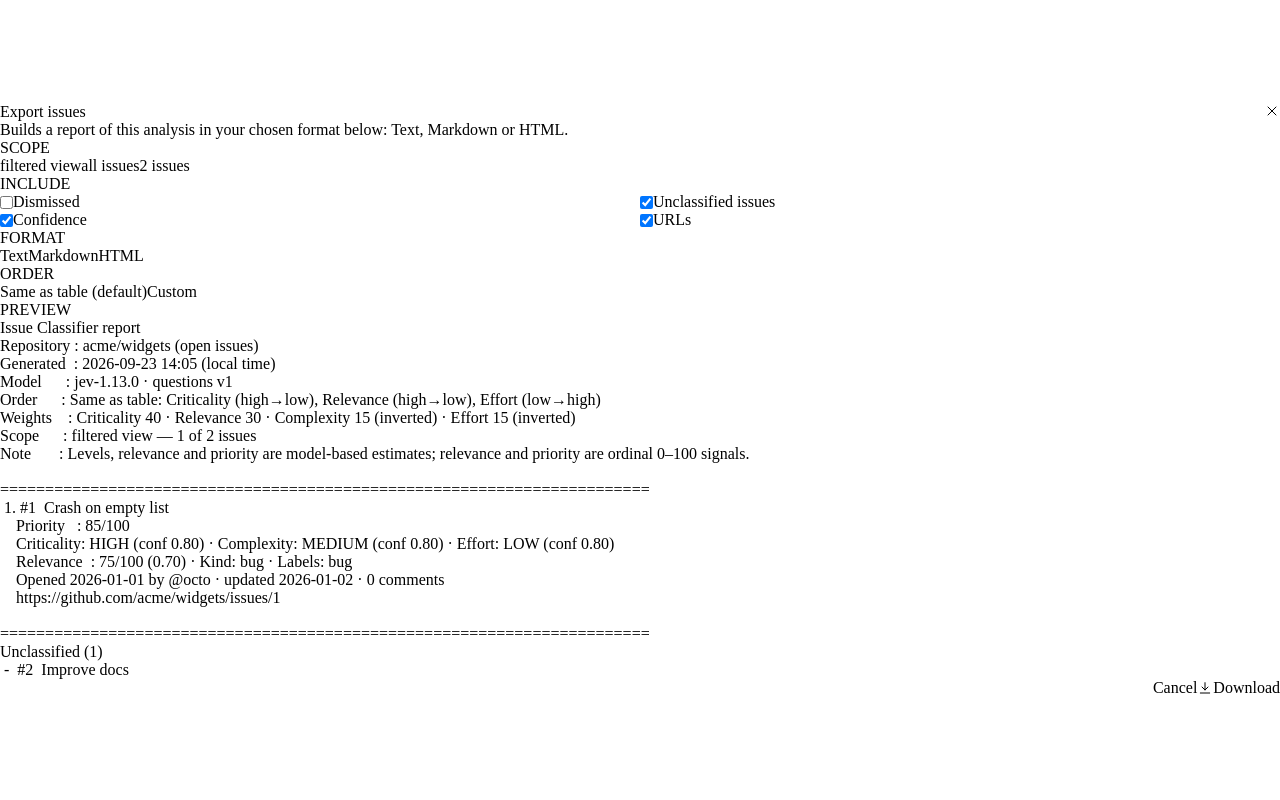
Test: ExportContainer › the Order control defaults to "Same as table" and only reveals the rule list in Custom
Click the radio button with test id "segment-custom". click: click(172, 292)
box: [147,283,197,301]
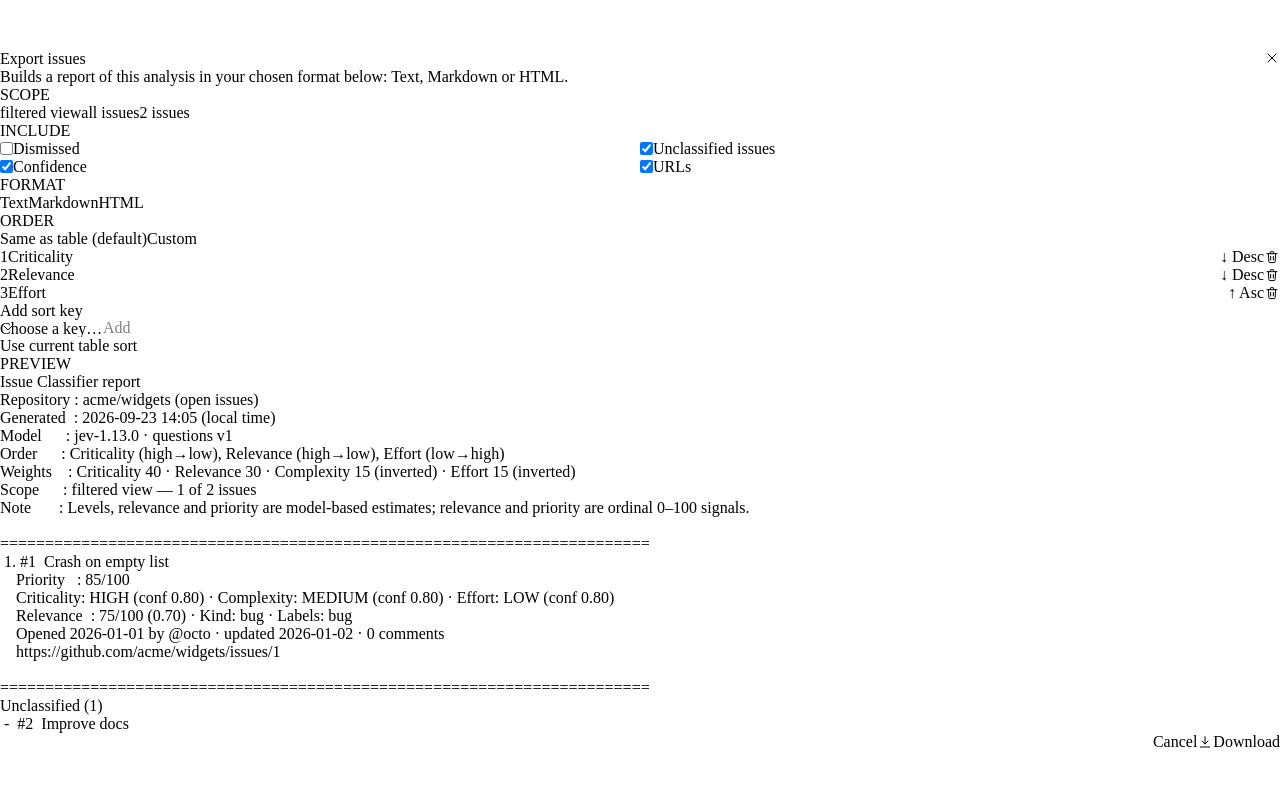
Now the element with class "sort-rule-list" is shown, box [0,248,1279,336]
Now the button with test id "export-use-table-sort" is shown, box [0,336,137,354]
